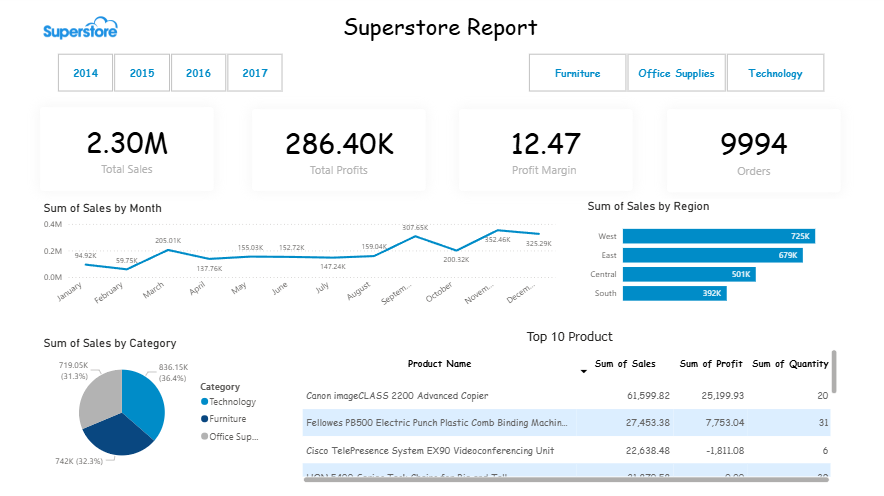

Layout of this report page (visuals, bound fields, positions):
{"tool":"powerbi","page":{"name":"Super store report","canvas":[1280,720],"ordinal":0},"visuals":[{"type":"image","box":[61.9,11.5,116.6,60.5],"z":0},{"type":"textbox","box":[216.7,11.7,845,60],"z":1000},{"type":"card","fields":{"Values":["Sample - Superstore.Total Sales"]},"box":[61.9,155.5,250,121],"z":2000},{"type":"card","fields":{"Values":["Sample - Superstore.Total Profits"]},"box":[366.7,158.3,250,118.3],"z":3000},{"type":"card","fields":{"Values":["Sample - Superstore.Orders"]},"box":[965,158.3,250,120],"z":4000},{"type":"barChart","fields":{"Y":["Sum(Sample - Superstore.Sales)"],"Category":["Sample - Superstore.Region"]},"box":[845,288.3,385,163.3],"z":5000},{"type":"pieChart","fields":{"Y":["Sum(Sample - Superstore.Sales)"],"Category":["Sample - Superstore.Category"]},"box":[61.4,485.7,332.9,201.4],"z":6000},{"type":"slicer","fields":{"Values":["Sample - Superstore.Order Date.Variation.Date Hierarchy.Year"]},"box":[61.7,71.7,373.3,68.3],"z":7000},{"type":"slicer","fields":{"Values":["Sample - Superstore.Category"]},"box":[740,71.7,475,68.3],"z":8000},{"type":"lineChart","fields":{"Category":["Sample - Superstore.Order Date.Variation.Date Hierarchy.Month"],"Y":["Sum(Sample - Superstore.Sales)"]},"box":[61.4,291.4,747.1,162.9],"z":9000},{"type":"tableEx","title":"Top 10 Product","fields":{"Values":["Sample - Superstore.Product Name","Sum(Sample - Superstore.Sales)","Sum(Sample - Superstore.Profit)","Sum(Sample - Superstore.Quantity)"]},"box":[435,473.3,780,228.3],"z":10000},{"type":"card","fields":{"Values":["Sample - Superstore.Profit Margin %"]},"box":[665,158.3,250,118.3],"z":11000}]}

Visuals, with their boxes in screenshot pixels (x1, y1, x2, y2), scaled from the page's 1280x720 canvas onto the 884x496 screenshot:
image: <region>43, 8, 123, 50</region>
textbox: <region>150, 8, 733, 49</region>
card - Sample - Superstore.Total Sales: <region>43, 107, 215, 190</region>
card - Sample - Superstore.Total Profits: <region>253, 109, 426, 191</region>
card - Sample - Superstore.Orders: <region>666, 109, 839, 192</region>
barChart - Sum(Sample - Superstore.Sales) x Sample - Superstore.Region: <region>584, 199, 849, 311</region>
pieChart - Sum(Sample - Superstore.Sales) x Sample - Superstore.Category: <region>42, 335, 272, 473</region>
slicer - Sample - Superstore.Order Date.Variation.Date Hierarchy.Year: <region>43, 49, 300, 96</region>
slicer - Sample - Superstore.Category: <region>511, 49, 839, 96</region>
lineChart - Sample - Superstore.Order Date.Variation.Date Hierarchy.Month x Sum(Sample - Superstore.Sales): <region>42, 201, 558, 313</region>
"Top 10 Product" tableEx: <region>300, 326, 839, 483</region>
card - Sample - Superstore.Profit Margin %: <region>459, 109, 632, 191</region>
